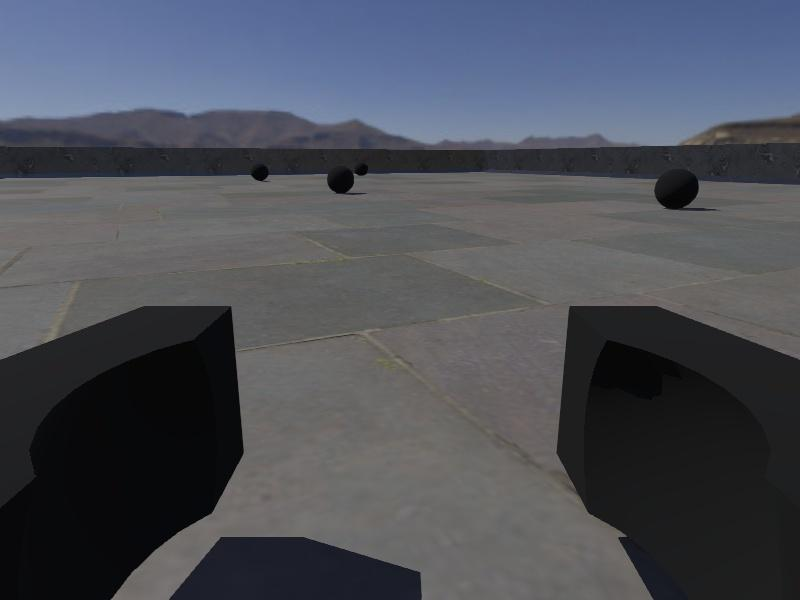black ball: (653, 170, 699, 210), (326, 165, 356, 194), (250, 162, 270, 182), (354, 159, 372, 178)
